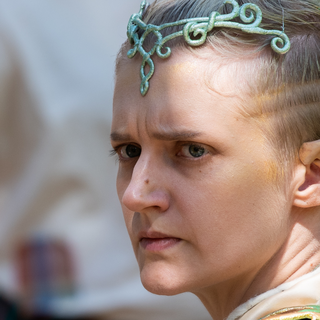eye: (172, 139, 221, 165), (110, 140, 146, 165)
